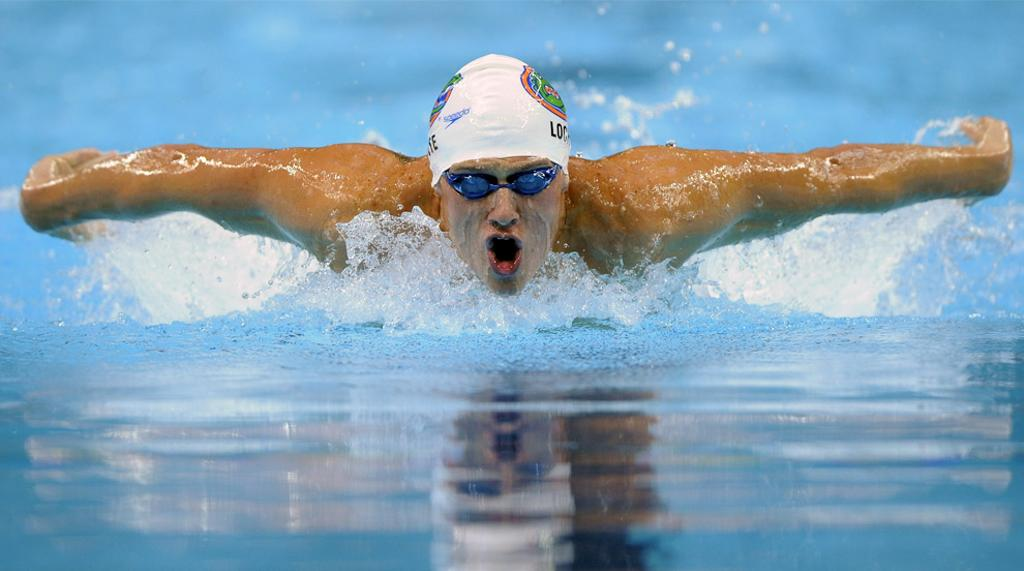face: (448, 120, 564, 296)
